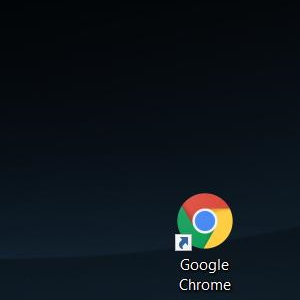chrome: (174, 192, 233, 252)
